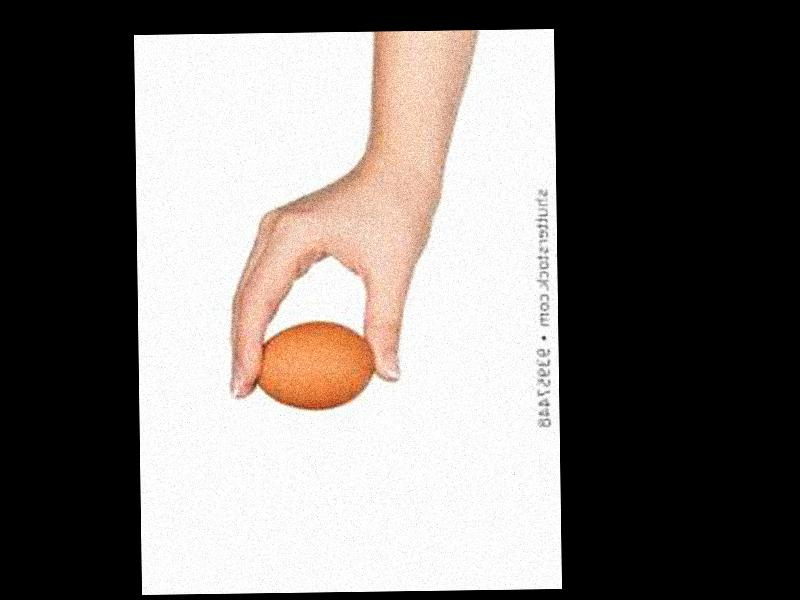Eggs: (249, 322, 376, 410)
